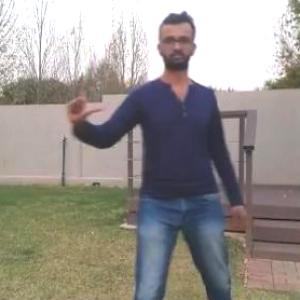land_hand: (60, 73, 102, 128)
